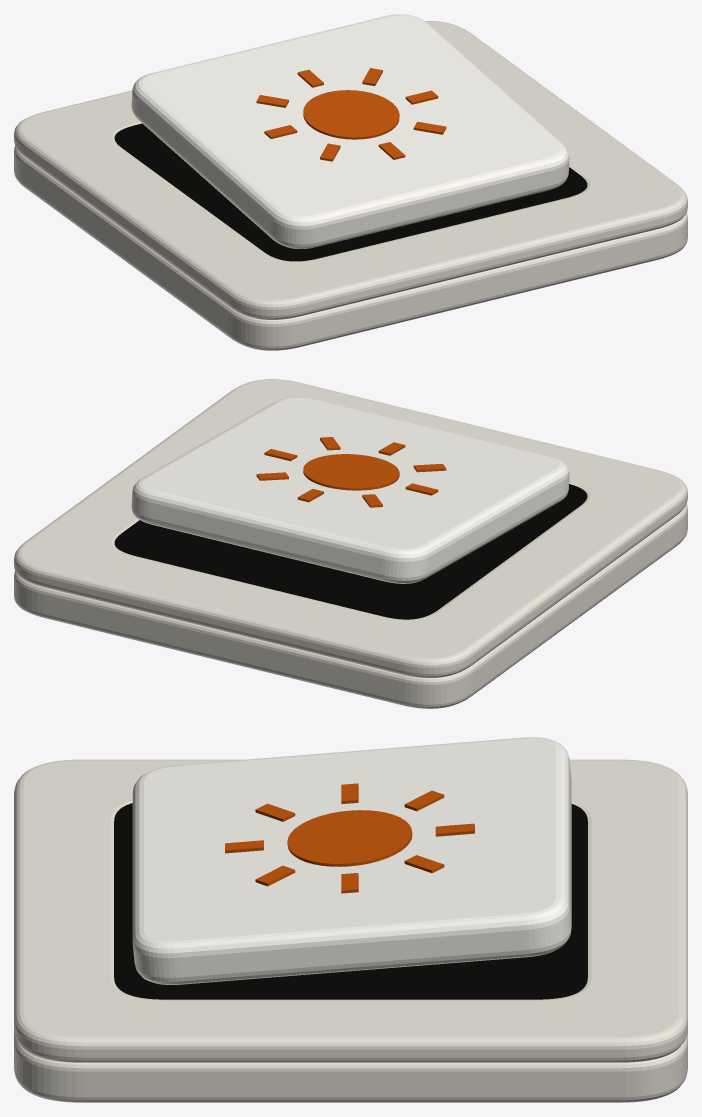
The model's file is interruptor-de-pared-dia.obj.
The picture shows the model from 3 angles, top to bottom: view 1: azimuth 30°, elevation 25°; view 2: azimuth 150°, elevation 25°; view 3: azimuth 270°, elevation 25°; orthographic projection. The views are drawn at different scales.
Parts seen in each view (by area): view 1: tecla, marco, placa-base, mecanismo, sol-disco; view 2: marco, tecla, placa-base, mecanismo, sol-disco; view 3: marco, tecla, placa-base, mecanismo, sol-disco.
Boxes of the visible parts, x1=… form: tecla: x1=131, y1=14, x2=569, y2=248; marco: x1=14, y1=21, x2=687, y2=319; placa-base: x1=14, y1=146, x2=687, y2=350; mecanismo: x1=114, y1=123, x2=587, y2=261; sol-disco: x1=303, y1=90, x2=399, y2=139; marco: x1=14, y1=379, x2=687, y2=677; tecla: x1=131, y1=397, x2=569, y2=583; placa-base: x1=14, y1=504, x2=687, y2=708; mecanismo: x1=114, y1=484, x2=587, y2=619; sol-disco: x1=303, y1=454, x2=399, y2=490; marco: x1=14, y1=759, x2=687, y2=1062; tecla: x1=132, y1=737, x2=571, y2=984; placa-base: x1=14, y1=1030, x2=687, y2=1102; mecanismo: x1=114, y1=803, x2=587, y2=999; sol-disco: x1=287, y1=810, x2=412, y2=866.
Size of the model in its own units: 0.086 by 0.0197 by 0.086.
